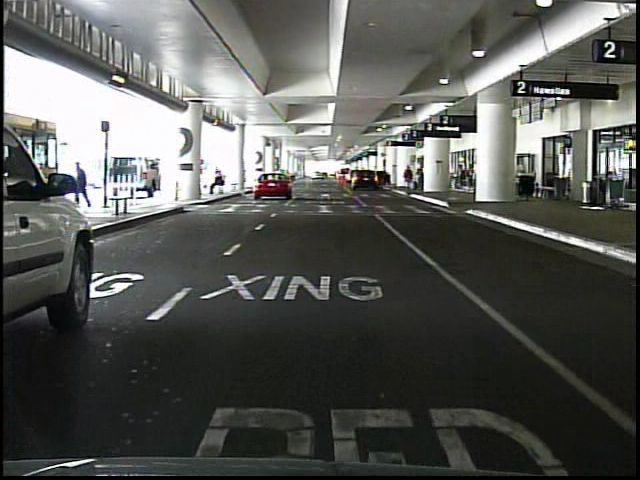person: (76, 161, 98, 210), (211, 168, 229, 195), (404, 163, 416, 193)
